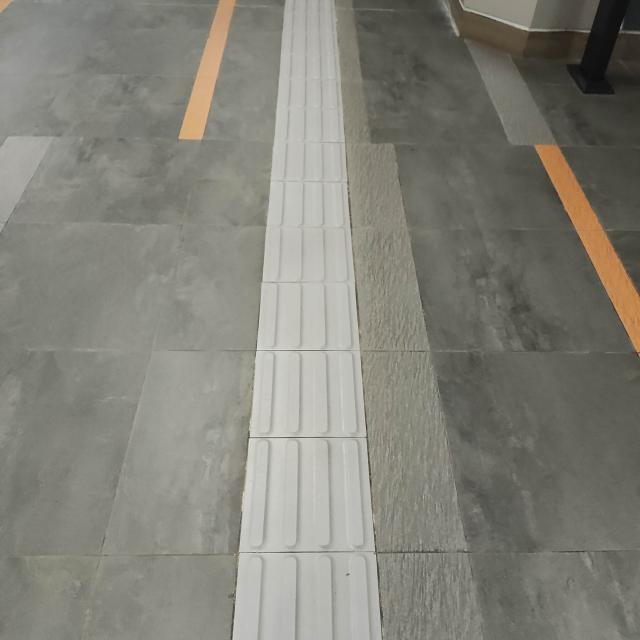lurus: (252, 0, 374, 640)
